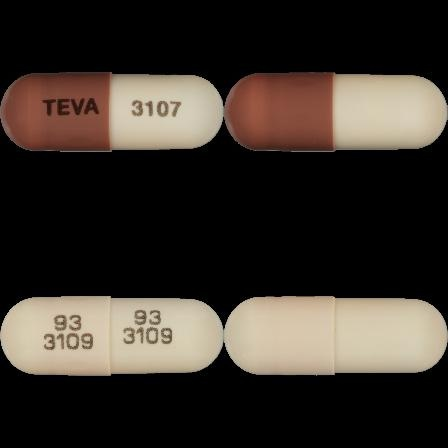0093-3107: (0, 0, 224, 224)
